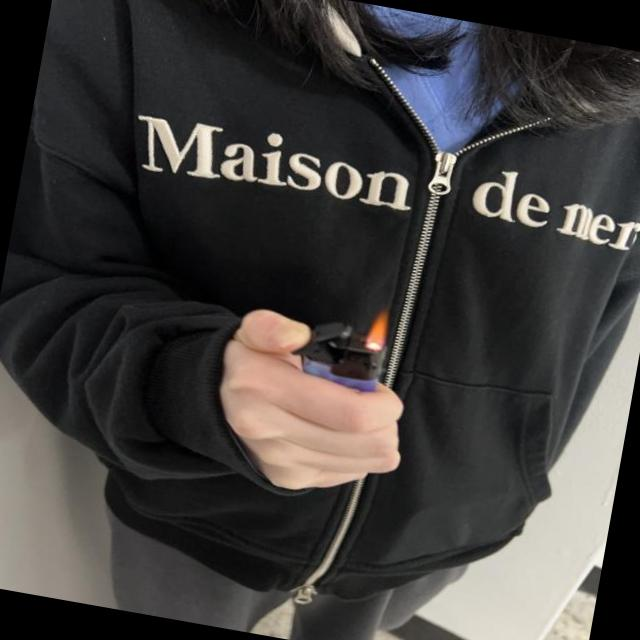Fire: (363, 304, 392, 353)
